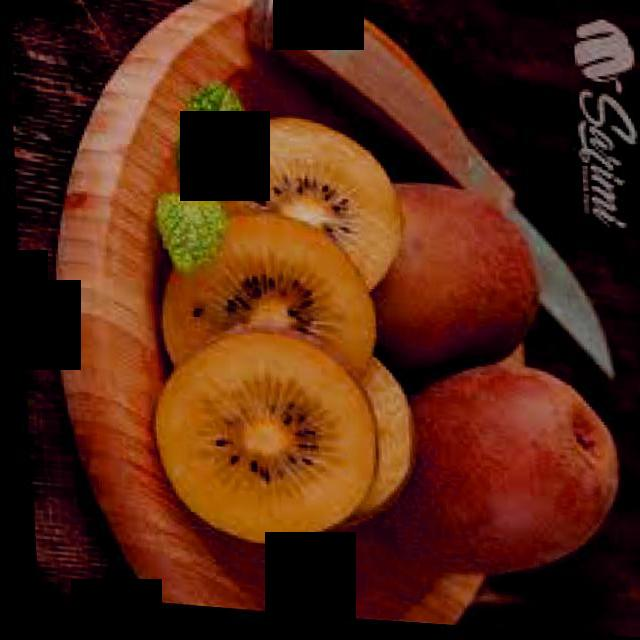kiwi: (349, 352, 625, 593), (324, 175, 543, 397)
